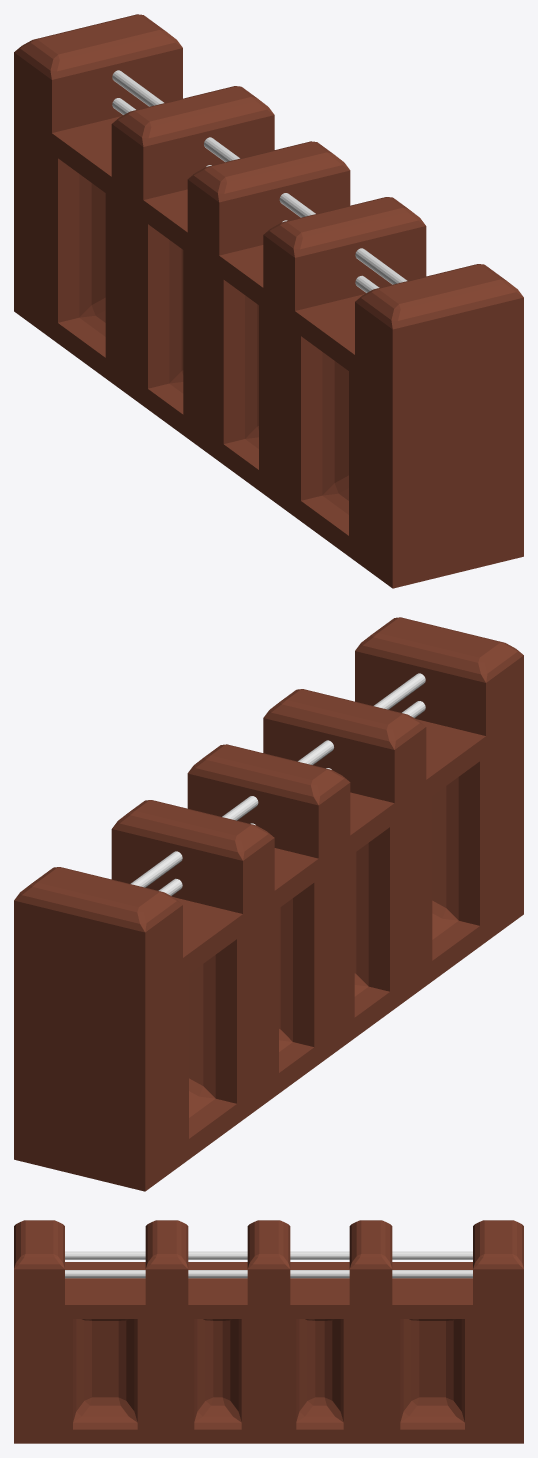
File: Industrial_Tri_BrickFence.fbx
3 views of the same model, one above another, from view 1: azimuth 30°, elevation 25°; view 2: azimuth 150°, elevation 25°; view 3: azimuth 270°, elevation 25° (orthographic). The views are drawn at different scales.
Visible parts, largest first — view 1: Tri_Brick_Fence; view 2: Tri_Brick_Fence; view 3: Tri_Brick_Fence.
Boxes of the visible parts, x1,y1,x2,y2 form: Tri_Brick_Fence: (14, 14, 523, 588); Tri_Brick_Fence: (14, 617, 523, 1191); Tri_Brick_Fence: (14, 1220, 523, 1443).
Bounding box in the file's own units: 200 × 400 × 1000.
